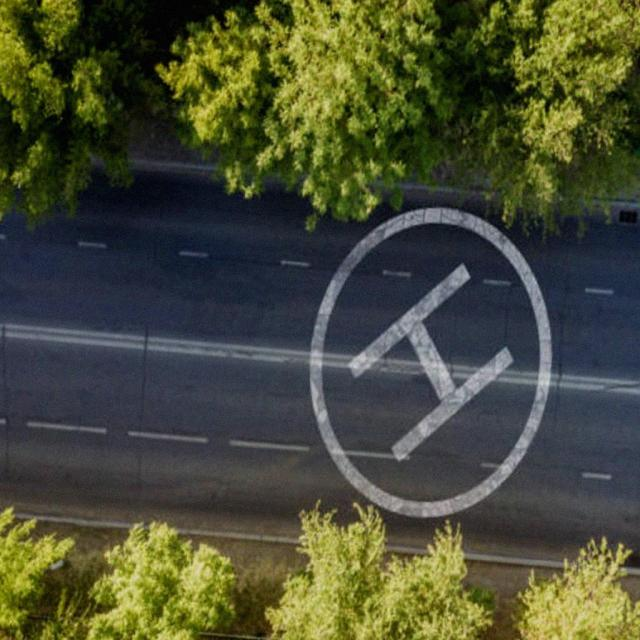helipad: (300, 199, 560, 526)
